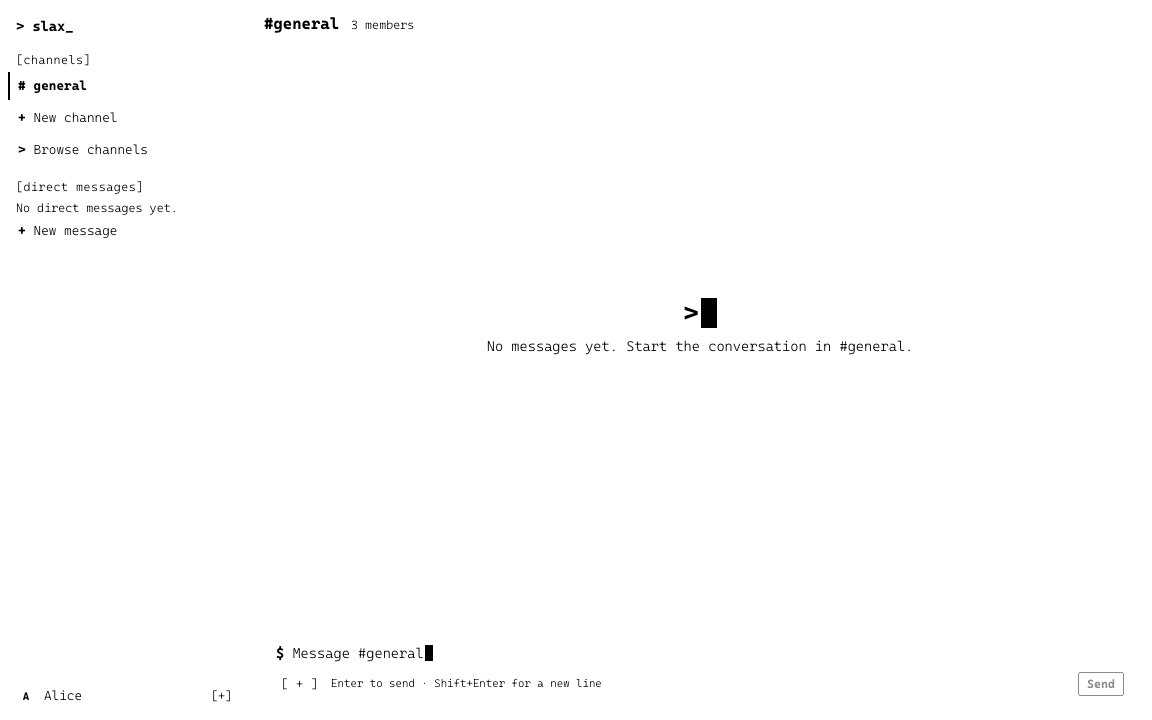
Scenario: sign-out › offline, the logout cannot be sent: still signed in, said so, and presence goes on
Click the button with class "user-menu__toggle" at {"x": 124, "y": 696}, box [8,680,240,712]
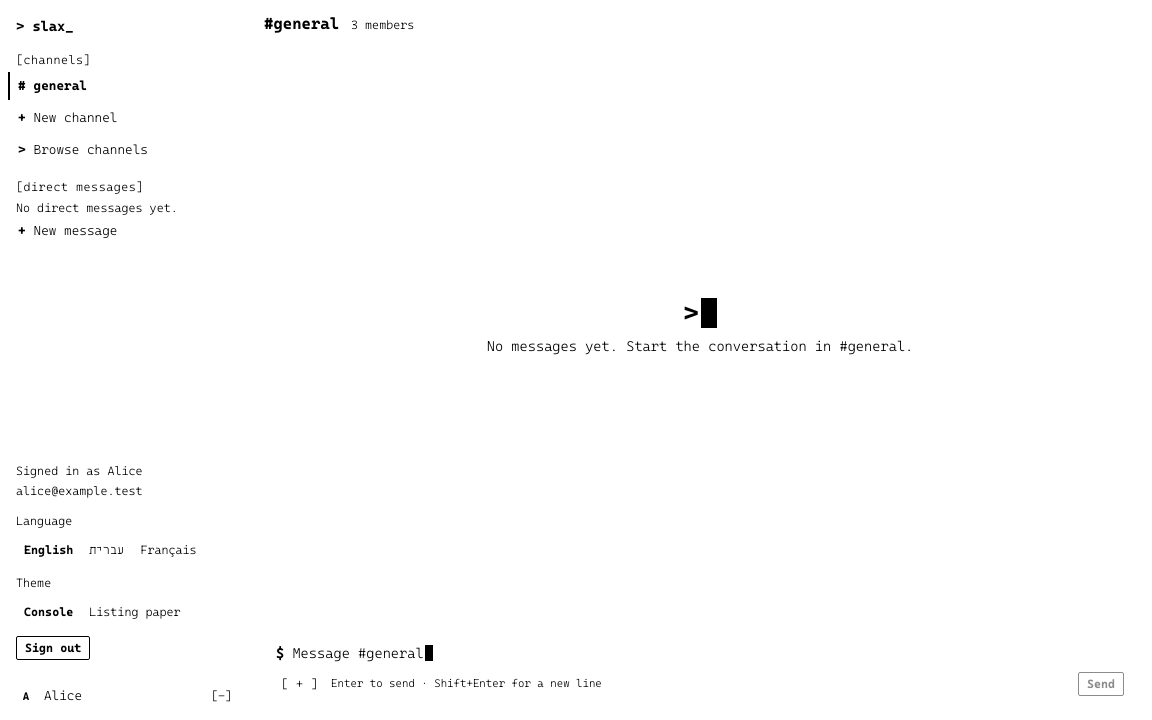
Click the button with class "user-menu__signout" at {"x": 53, "y": 648}, box [16,636,90,660]
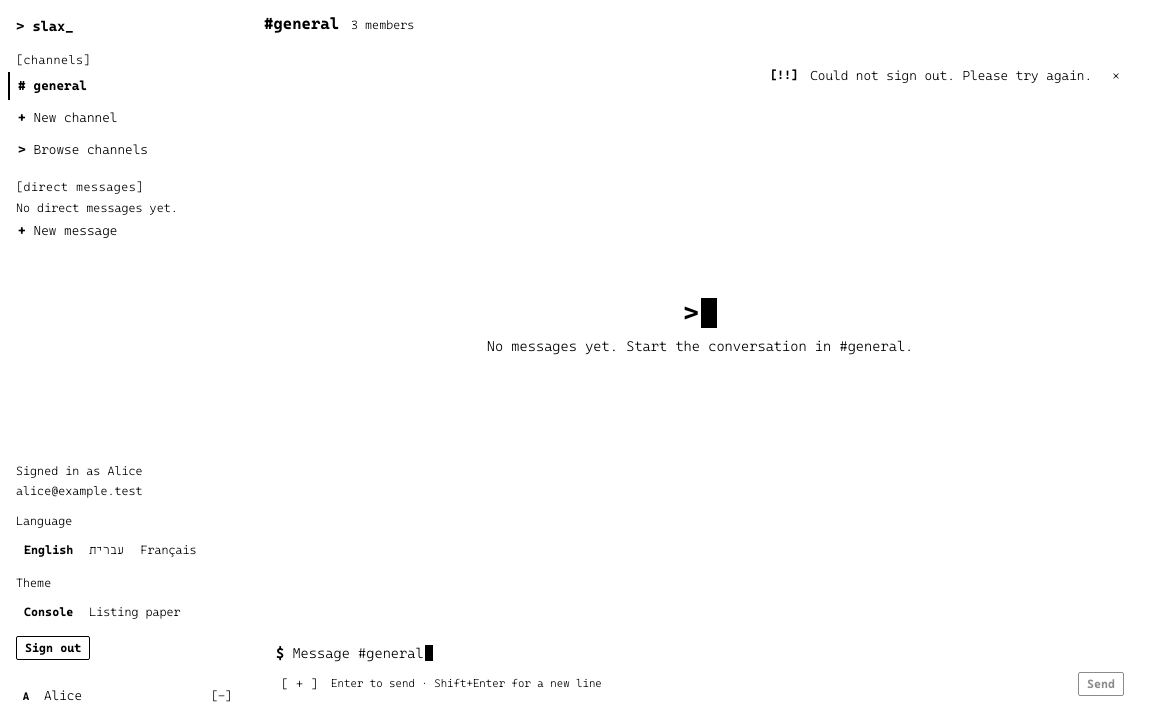
Now the button with class "user-menu__signout" is enabled, box [16,636,90,660]
Now the text with class "toast__text" reads "Could not sign out. Please try again.", box [810,68,1092,83]
